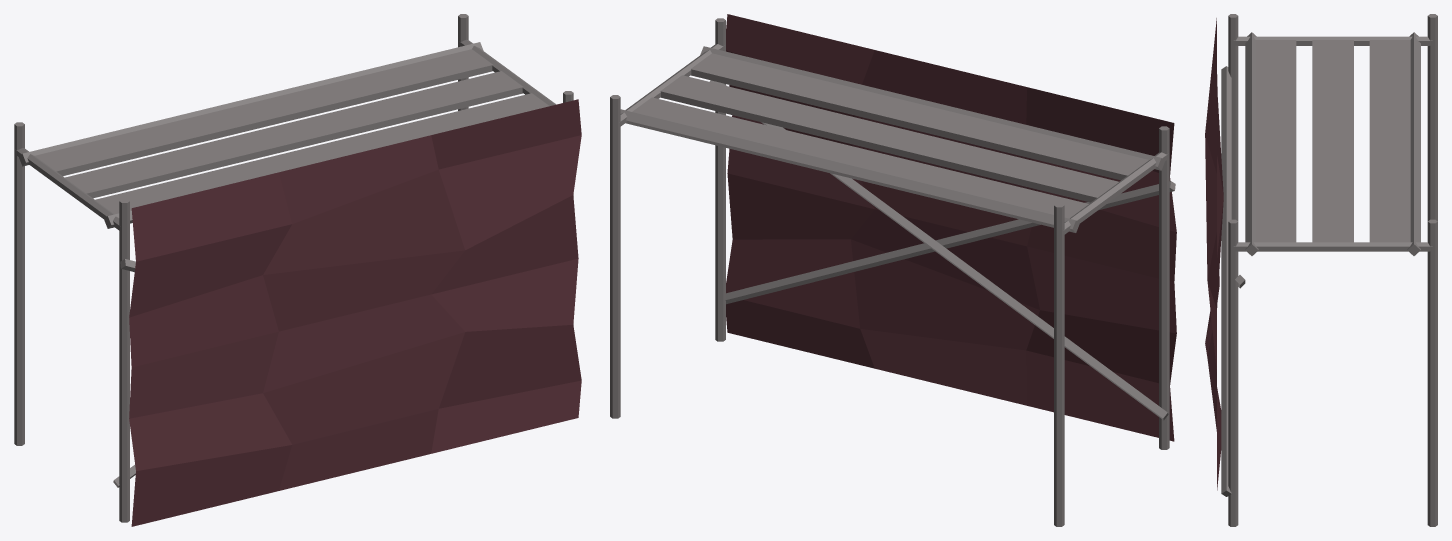
File: scaffolding-floor-covered.fbx
3 views of the same model, side by side, from view 1: azimuth 30°, elevation 25°; view 2: azimuth 150°, elevation 25°; view 3: azimuth 270°, elevation 25° (orthographic). The views are drawn at different scales.
Parts seen in each view (by area): view 1: scaffolding-floor-covered; view 2: scaffolding-floor-covered; view 3: scaffolding-floor-covered.
Boxes of the visible parts, x1,y1,x2,y2 form: scaffolding-floor-covered: (14, 14, 581, 526); scaffolding-floor-covered: (610, 14, 1176, 526); scaffolding-floor-covered: (1205, 14, 1437, 526).
Size of the model in its own units: 3.01 by 2.01 by 1.39.
